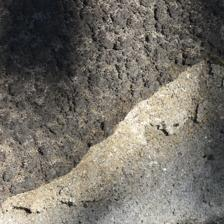Crack: (0, 127, 143, 216), (75, 66, 156, 136)
